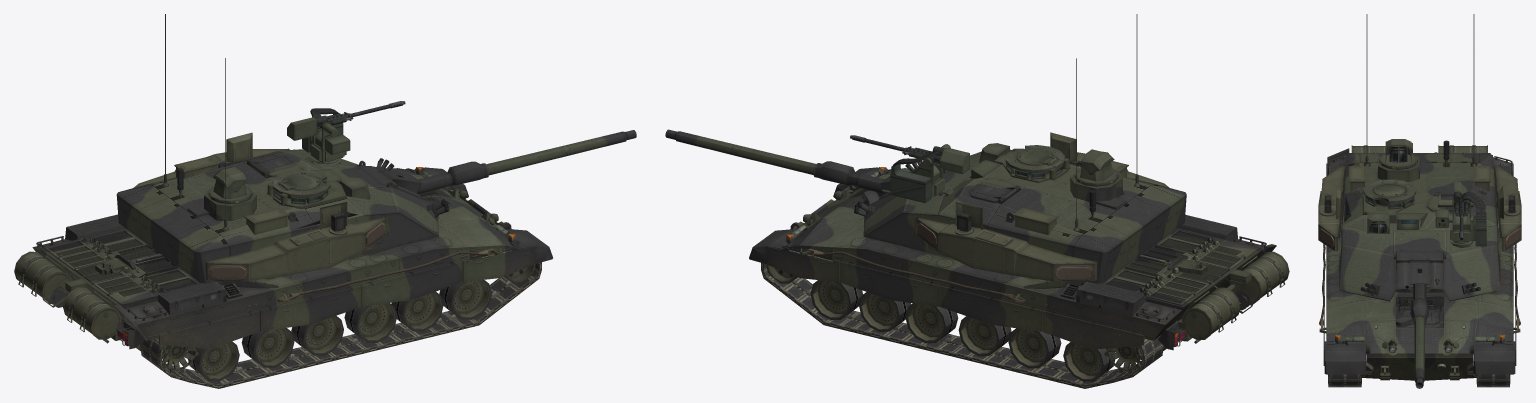
Rendered from challenger3.glb.
The picture shows the model from 3 angles, left to right: view 1: azimuth 30°, elevation 25°; view 2: azimuth 150°, elevation 25°; view 3: azimuth 270°, elevation 25°; orthographic projection. The views are drawn at different scales.
Parts seen in each view (by area): view 1: hull, turret, trophy, skirts, track, fueltank2, weapon, sensorback, wheel12, wheel8, wheel4, toolbox (+11 smaller); view 2: hull, turret, skirts, trophy, track2, fueltank2, weapon, sensorback, wheel11, wheel7, wheel3, toolbox2 (+12 smaller); view 3: turret, hull, trophy, guard, mount, sensorback, weapon, bowobjects, mount2, fireexting, fueltank2, cable2 (+14 smaller).
Boxes of the visible parts, x1,y1,x2,y2 form: hull: (32,168,518,351); turret: (116,149,438,283); trophy: (133,132,390,281); skirts: (159,167,534,348); track: (140,250,541,388); fueltank2: (14,251,124,343); weapon: (417,130,636,193); sensorback: (204,167,256,220); wheel12: (241,328,294,367); wheel8: (344,303,397,342); wheel4: (439,280,491,319); toolbox: (157,281,226,315); hull: (783,168,1276,350); turret: (863,145,1186,283); skirts: (767,167,1144,349); trophy: (912,132,1169,281); track2: (761,250,1163,388); fueltank2: (1175,251,1289,343); weapon: (665,129,885,193); sensorback: (1070,149,1122,201); wheel11: (1008,328,1061,368); wheel7: (905,303,958,343); wheel3: (810,280,863,320); toolbox2: (1076,281,1145,316); turret: (1339,153,1500,301); hull: (1326,148,1513,380); trophy: (1318,166,1521,256); guard: (1324,341,1515,374); mount: (1396,251,1443,291); sensorback: (1378,139,1419,181); weapon: (1410,284,1428,388); bowobjects: (1362,342,1476,380); mount2: (1435,198,1475,241); fireexting: (1327,335,1512,345); fueltank2: (1351,143,1487,152); cable2: (1319,243,1520,333).
Size of the model in its own units: 11.05 by 5.57 by 3.76.
Materials: 7 (7 with a texture image).
